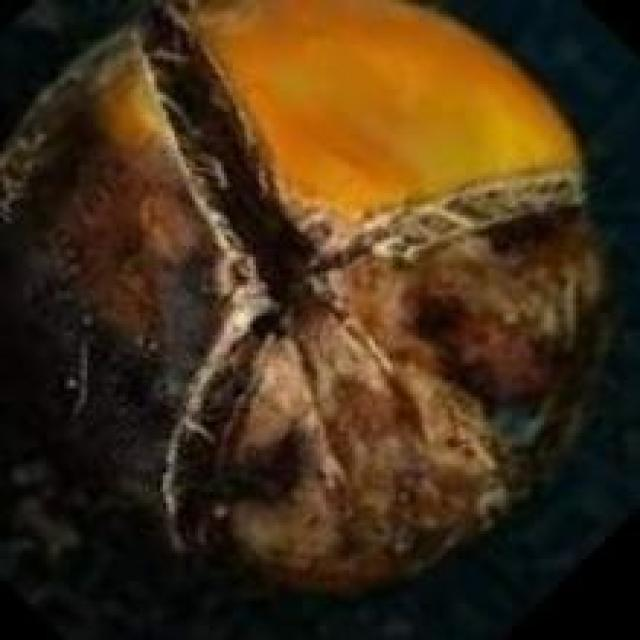damaged: (0, 0, 614, 598)
